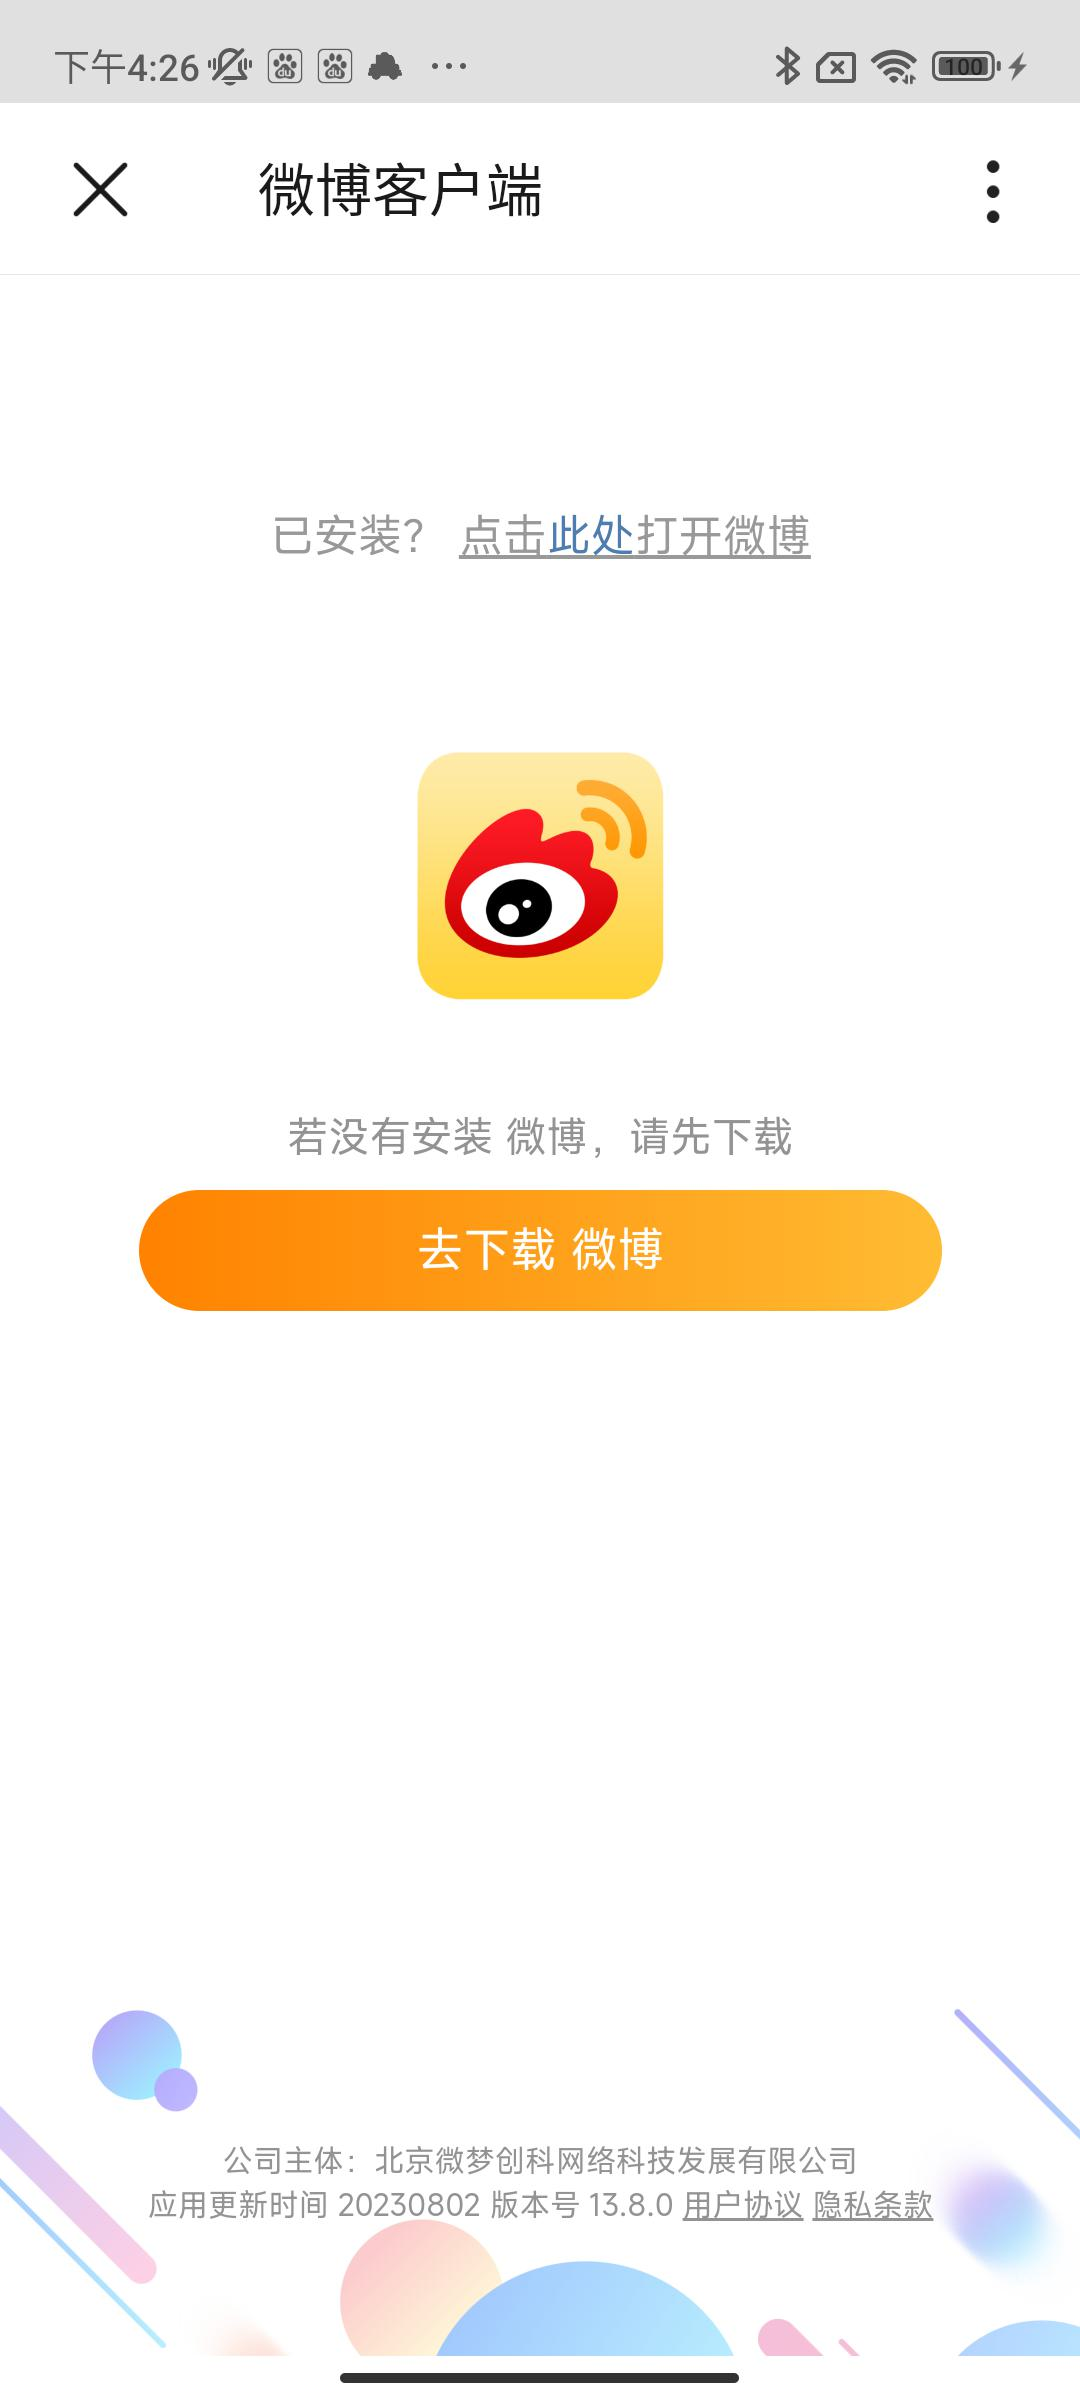ui_group: (122, 706, 968, 1365)
